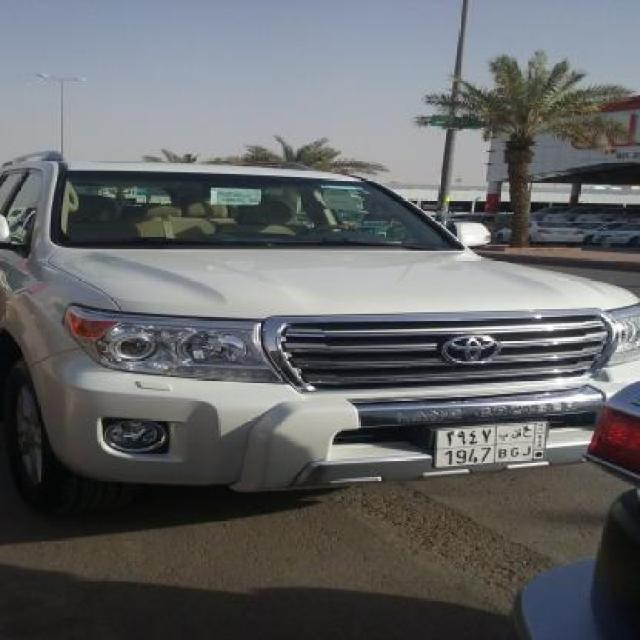license_plate: (432, 421, 550, 468)
